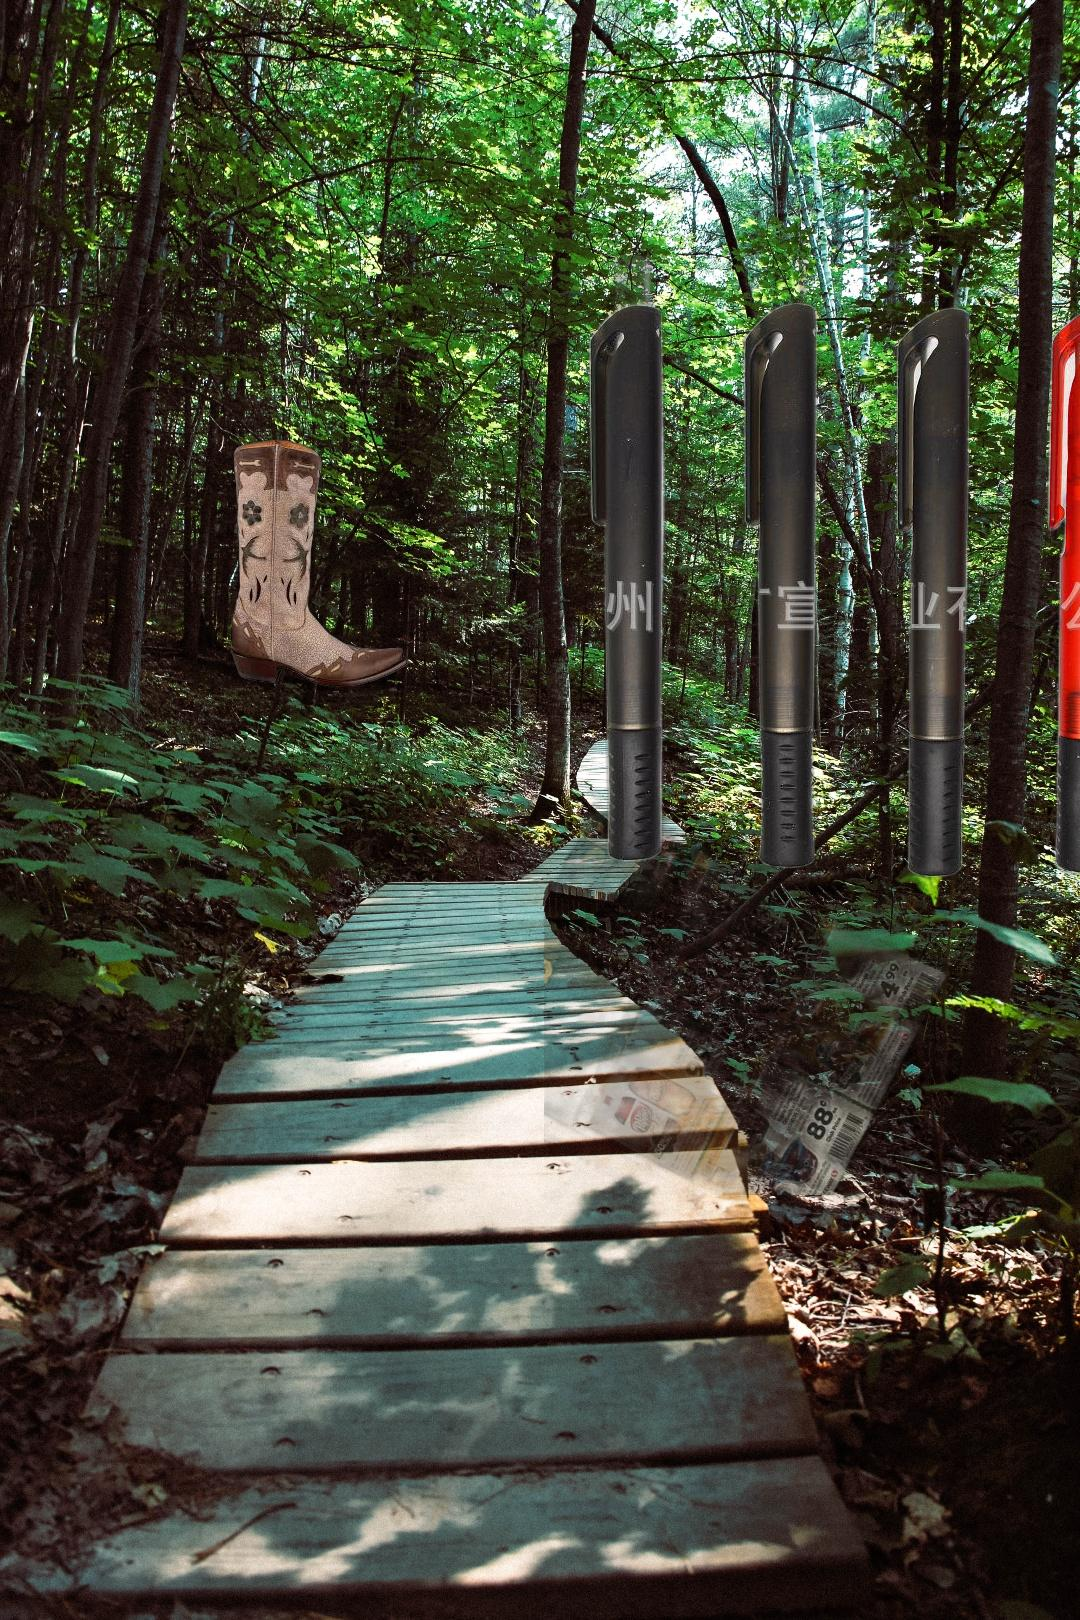paper: (544, 811, 1034, 1195)
penholder: (582, 247, 1080, 912)
shoes: (228, 438, 411, 689)
